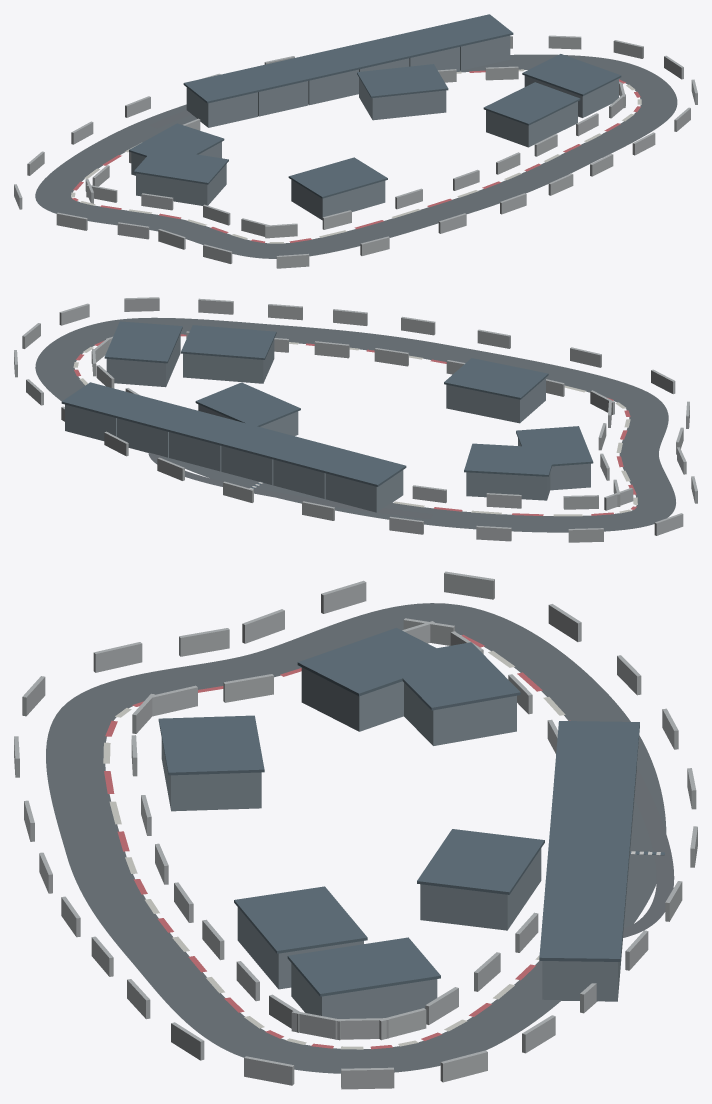
3 views of the same model, one above another, from view 1: azimuth 30°, elevation 25°; view 2: azimuth 150°, elevation 25°; view 3: azimuth 270°, elevation 25° (orthographic). The views are drawn at different scales.
Parts seen in each view (by area): view 1: asphalt, grandstand_roof_3, grandstand_roof_2, grandstand_roof_1, grandstand_roof_0, grandstand_roof_5, grandstand_2, grandstand_3, grandstand_0, grandstand_4, pit_building_0, grandstand_roof_4 (+23 smaller); view 2: asphalt, grandstand_roof_3, grandstand_roof_2, grandstand_roof_0, grandstand_roof_5, grandstand_roof_1, grandstand_3, grandstand_roof_4, grandstand_2, pit_building_0, grandstand_5, grandstand_1 (+35 smaller); view 3: asphalt, grandstand_roof_1, grandstand_roof_2, grandstand_roof_0, grandstand_roof_3, grandstand_roof_4, grandstand_roof_5, grandstand_0, grandstand_1, grandstand_5, grandstand_4, pit_roof_5 (+22 smaller).
Boxes of the visible parts, x1,y1,x2,y2 form: asphalt: (35, 54, 677, 258); grandstand_roof_3: (288, 157, 387, 198); grandstand_roof_2: (483, 82, 580, 125); grandstand_roof_1: (522, 54, 621, 96); grandstand_roof_0: (357, 64, 448, 98); grandstand_roof_5: (129, 123, 224, 164); grandstand_2: (486, 101, 577, 147); grandstand_3: (291, 180, 385, 220); grandstand_0: (359, 78, 446, 120); grandstand_4: (136, 164, 226, 205); pit_building_0: (186, 87, 257, 127); grandstand_roof_4: (133, 154, 228, 184); asphalt: (35, 317, 675, 532); grandstand_roof_3: (444, 358, 548, 399); grandstand_roof_2: (181, 325, 276, 359); grandstand_roof_0: (195, 382, 300, 426); grandstand_roof_5: (464, 443, 556, 476); grandstand_roof_1: (104, 321, 182, 363); grandstand_3: (446, 378, 545, 423); grandstand_roof_4: (516, 426, 593, 466); grandstand_2: (183, 339, 274, 383); pit_building_0: (325, 470, 403, 512); grandstand_5: (466, 472, 550, 500); grandstand_1: (106, 333, 180, 387); asphalt: (46, 603, 666, 1073); grandstand_roof_1: (287, 937, 440, 996); grandstand_roof_2: (234, 886, 367, 953); grandstand_roof_0: (417, 829, 544, 894); grandstand_roof_3: (158, 715, 264, 775); grandstand_roof_4: (297, 628, 457, 696); grandstand_roof_5: (383, 642, 520, 710); grandstand_0: (420, 848, 541, 930); grandstand_1: (291, 963, 437, 1018); grandstand_5: (404, 683, 516, 745); grandstand_4: (301, 667, 403, 731); pit_roof_5: (539, 916, 623, 961).
Size of the model in its own units: 62.54 by 2.64 by 36.22.
